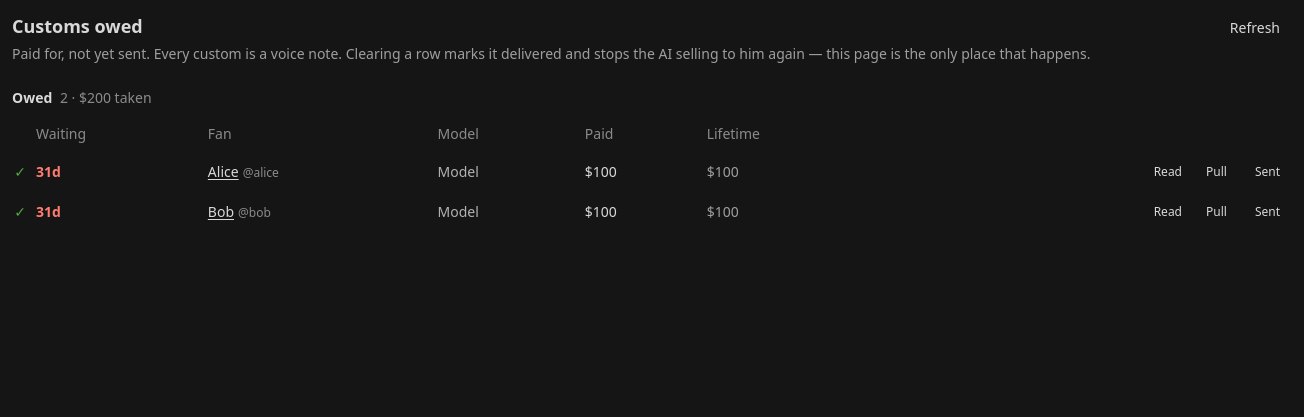
Test case: CustomsTab pane › Sent on A while A and B pull: B's ok rescrape still reopens B
Click the 1st button titled "Re-fetch this chat from OnlyFans, then re-read it".
click(1216, 172)  # box [1198,160,1235,184]
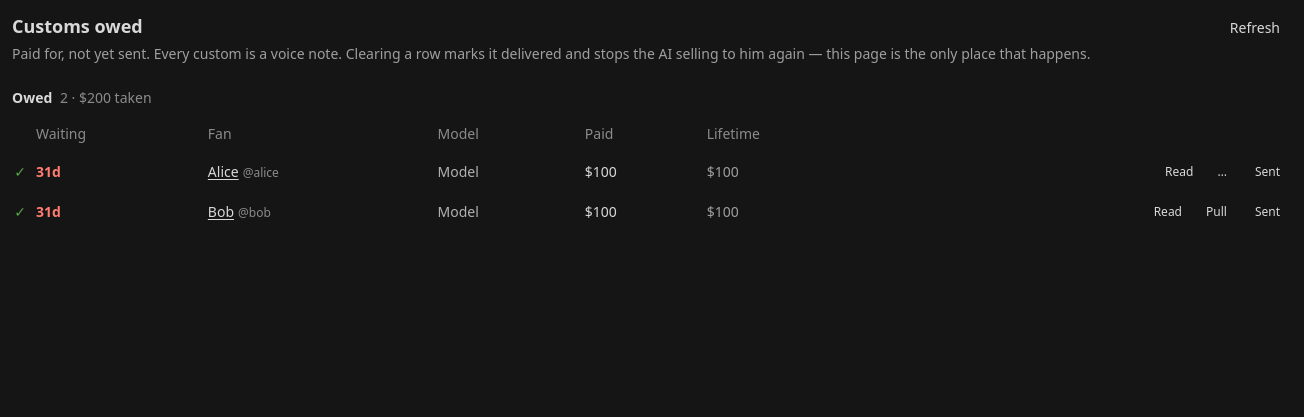
Click the button titled "Re-fetch this chat from OnlyFans, then re-read it".
click(1216, 212)  # box [1198,200,1235,224]
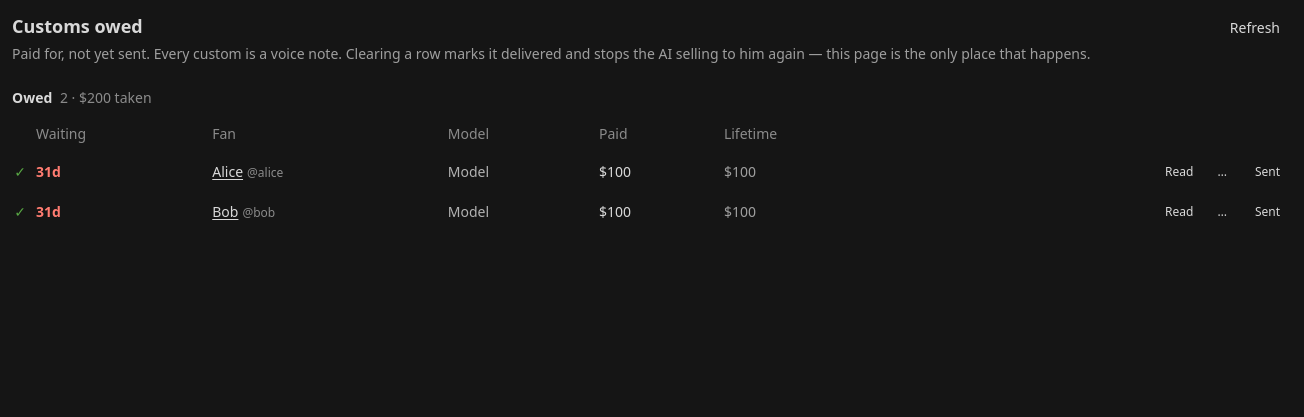
Click the 1st button titled "Mark delivered".
click(1267, 172)  # box [1243,160,1292,184]
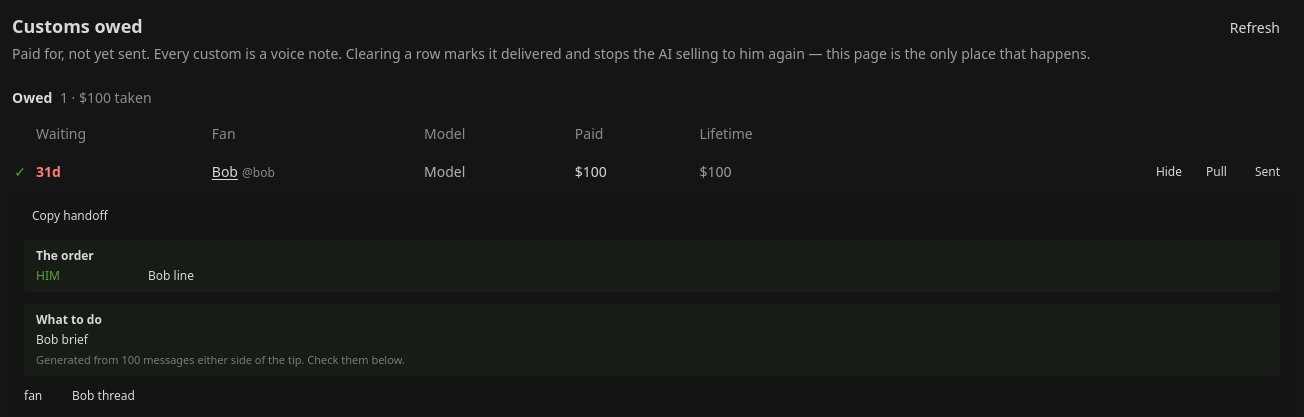
Expected: the text "Bob brief" is shown, [36,331,88,348]
Expected: the button titled "Read the conversation around this tip" reads "Hide", [1148,160,1190,184]
